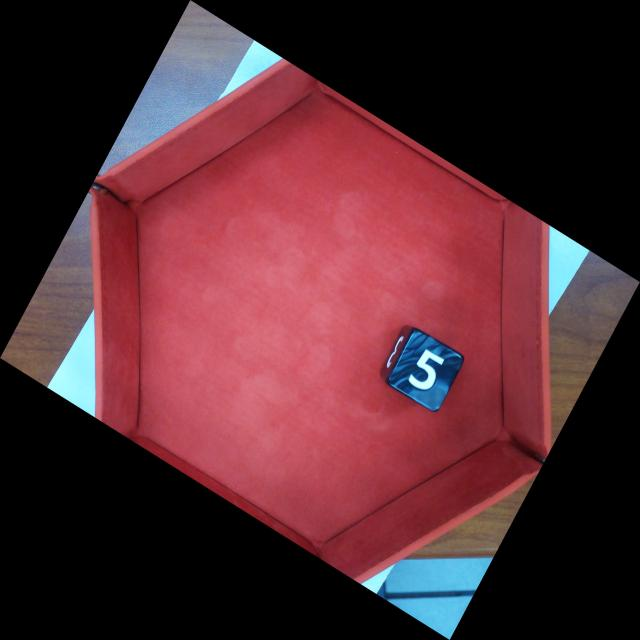dice: (386, 325, 467, 415)
